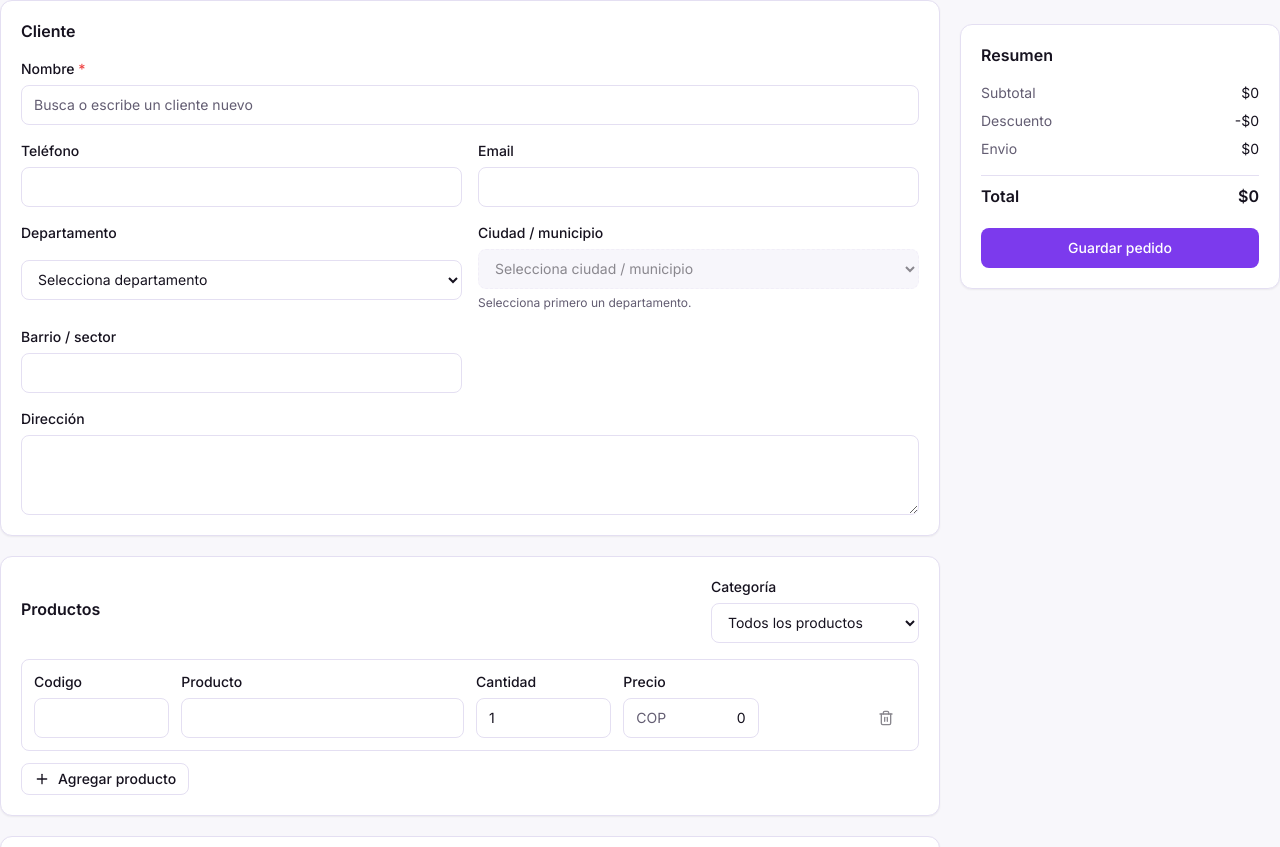
OrderForm con inventario real › permite guardar un producto de catalogo aunque no exista en inventario
Type "Cliente Nuevo" into the field with placeholder "Busca o escribe un cliente nuevo" at (470, 105), box [21, 85, 919, 125]
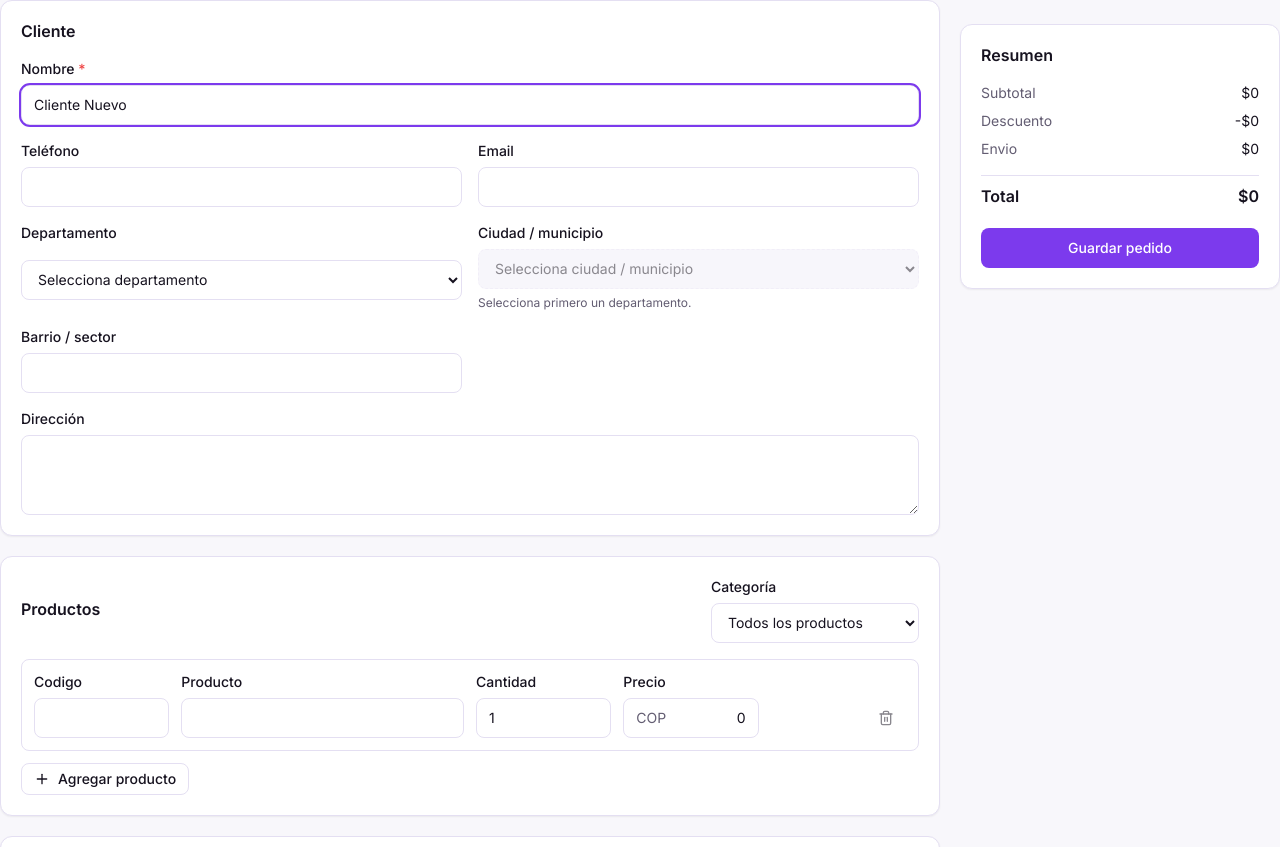
Type "Set de Aretes" into the field labelled "Producto" at (323, 718), box [181, 698, 464, 738]
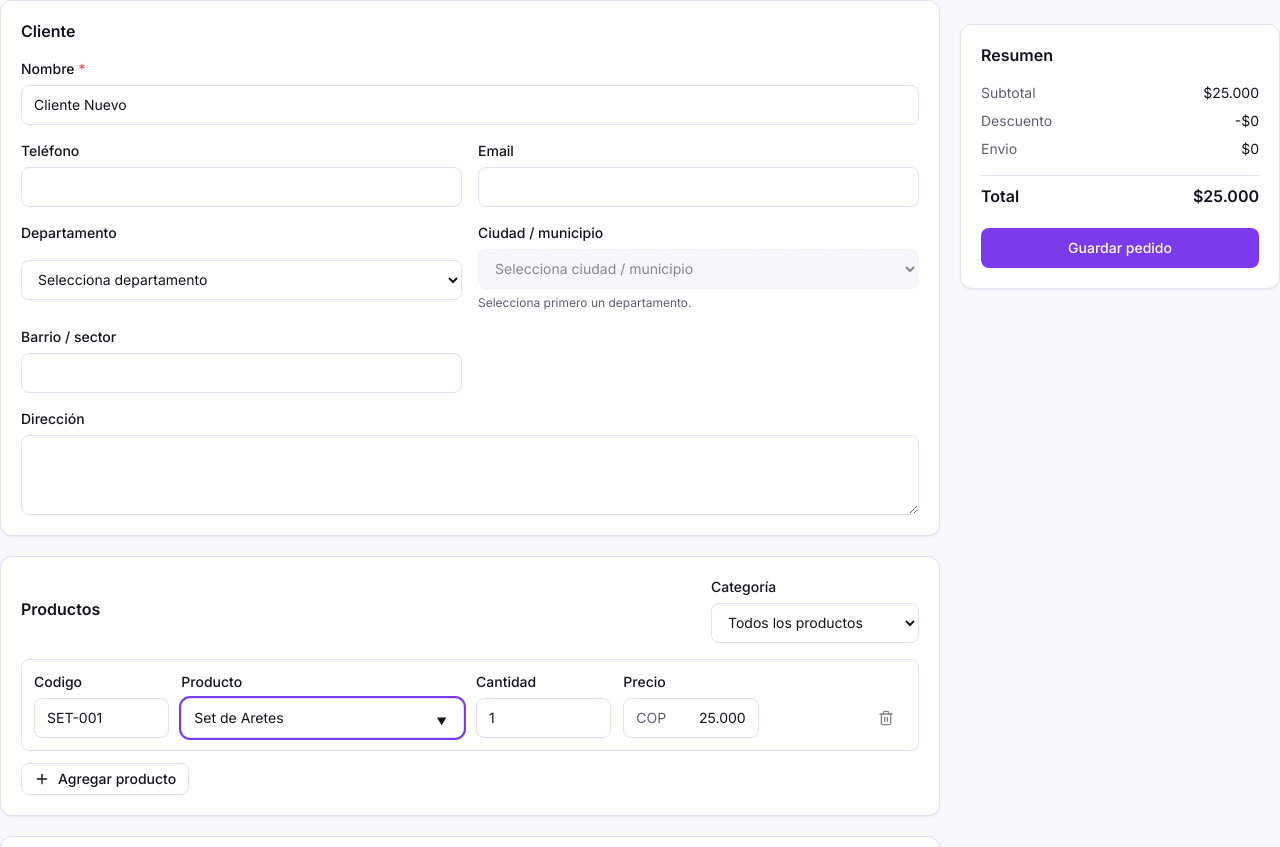
Click the button "Guardar pedido" at (1120, 248), box [981, 228, 1259, 268]
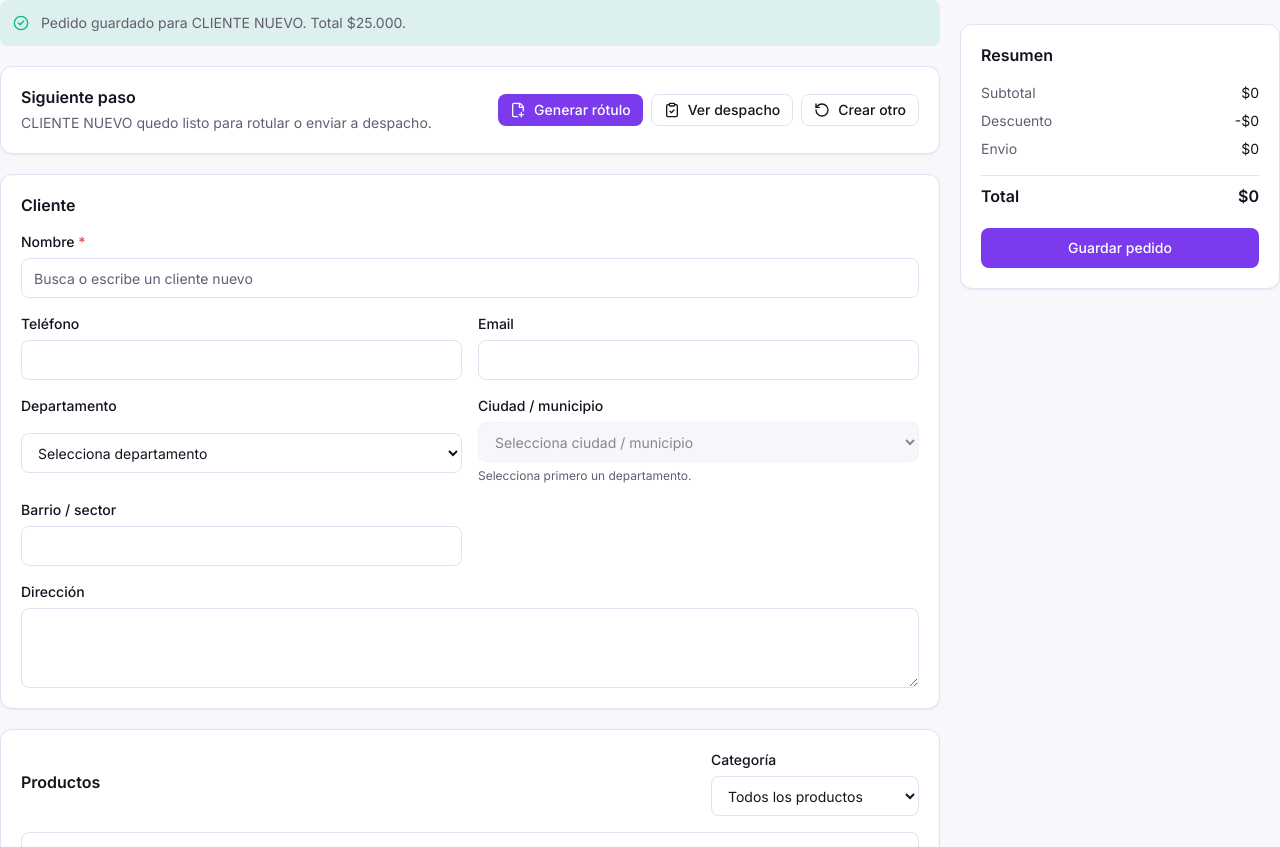
Result: the text "Pedido guardado para CLIENTE NUEVO. Total $25.000." is shown at [41, 14, 406, 31]
Result: the button "Crear otro" is shown at [801, 94, 919, 126]
